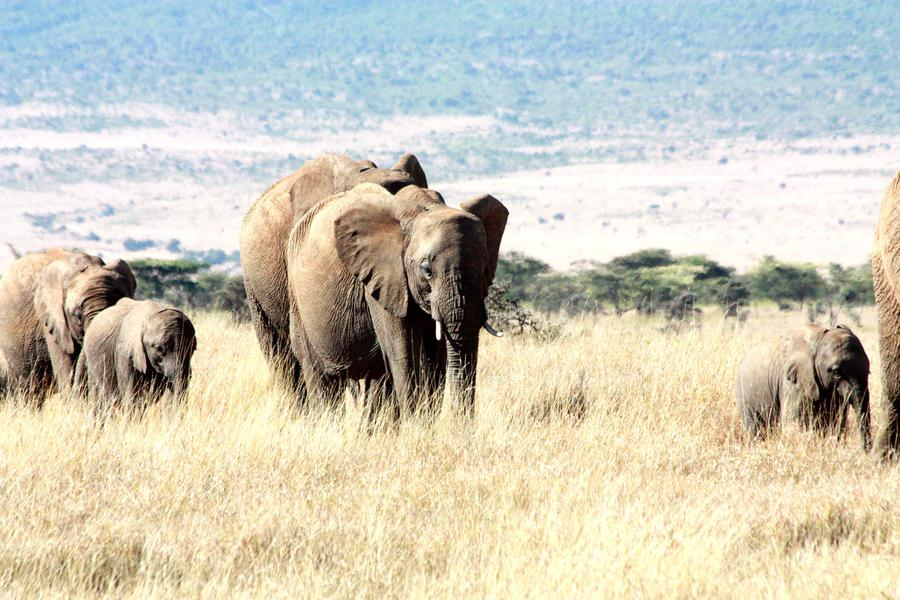elephant: (325, 197, 525, 334)
